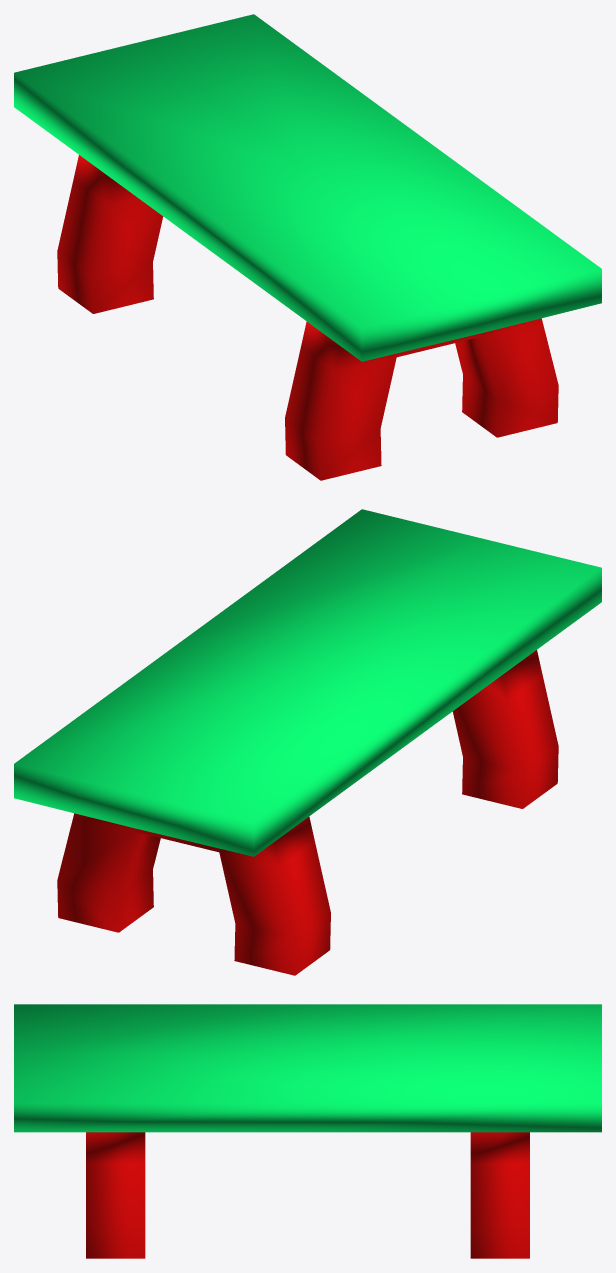
The model's file is Table.fbx.
The picture shows the model from 3 angles, top to bottom: view 1: azimuth 30°, elevation 25°; view 2: azimuth 150°, elevation 25°; view 3: azimuth 270°, elevation 25°; orthographic projection. The views are drawn at different scales.
Parts seen in each view (by area): view 1: Table; view 2: Table; view 3: Table.
Boxes of the visible parts, left/top/right/bottom form: Table: left=14, top=14, right=601, bottom=480; Table: left=14, top=509, right=601, bottom=975; Table: left=14, top=1004, right=601, bottom=1258.
Size of the model in its own units: 791 by 583 by 1987.
